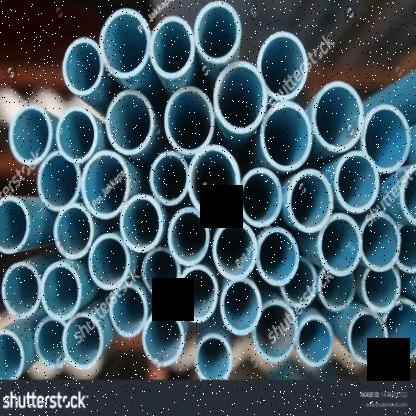pipe: (213, 61, 268, 134), (187, 144, 239, 218), (99, 8, 152, 79), (311, 81, 364, 152), (260, 101, 313, 172), (257, 31, 308, 100), (360, 104, 410, 174), (164, 86, 214, 154), (81, 151, 130, 218), (105, 89, 154, 155), (194, 0, 242, 64), (287, 168, 333, 233), (333, 151, 379, 213), (238, 166, 283, 228), (150, 16, 194, 79), (317, 213, 361, 276), (212, 220, 258, 280), (254, 301, 298, 363), (37, 151, 82, 210), (9, 105, 53, 165), (120, 194, 164, 253), (56, 106, 98, 165), (360, 213, 402, 272), (142, 309, 186, 365), (256, 228, 299, 285), (176, 265, 219, 322), (61, 313, 104, 370), (88, 233, 130, 291), (63, 37, 104, 95), (168, 207, 209, 265), (220, 280, 262, 336), (52, 203, 93, 260), (41, 261, 80, 320), (2, 261, 42, 318), (381, 299, 416, 361), (348, 310, 387, 365), (150, 150, 188, 206), (110, 282, 148, 338), (142, 246, 181, 300), (296, 315, 333, 368), (361, 268, 401, 312), (35, 316, 68, 369), (194, 334, 232, 380), (0, 194, 30, 252), (0, 330, 25, 380), (394, 220, 416, 274), (399, 163, 416, 225)
